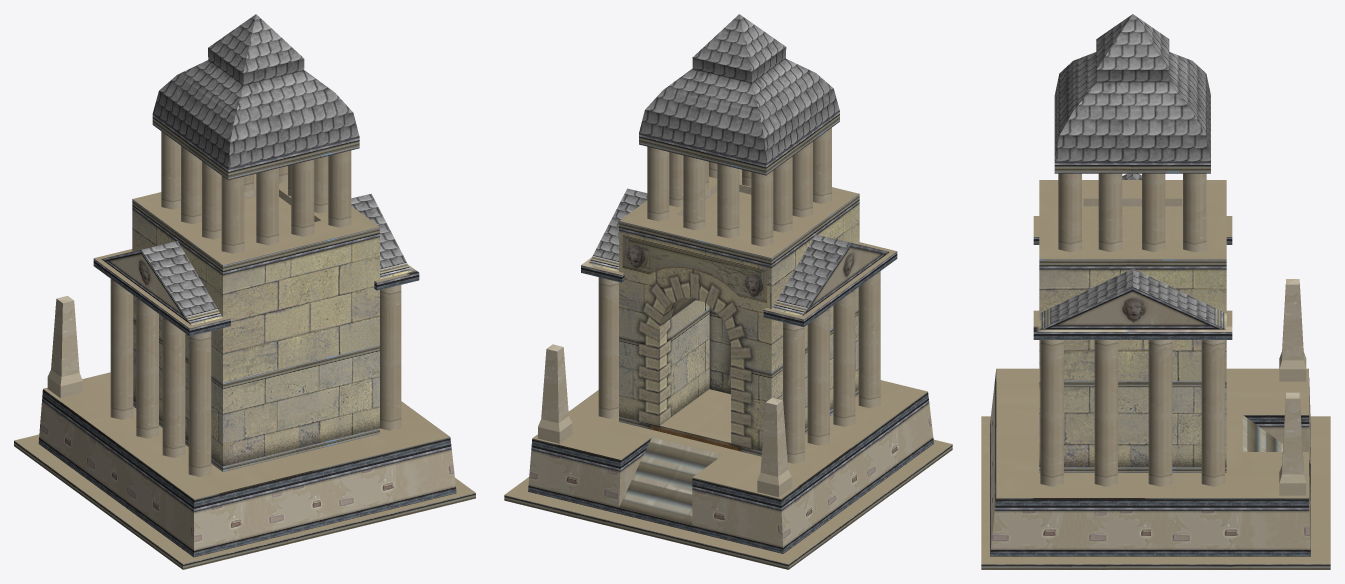
File: h_arcane.FBX
3 views of the same model, side by side, from view 1: azimuth 30°, elevation 25°; view 2: azimuth 150°, elevation 25°; view 3: azimuth 270°, elevation 25° (orthographic). The views are drawn at different scales.
Parts seen in each view (by area): view 1: h_arcane; view 2: h_arcane; view 3: h_arcane.
Boxes of the visible parts, left/top/right/bottom form: h_arcane: left=14, top=14, right=475, bottom=569; h_arcane: left=504, top=14, right=952, bottom=569; h_arcane: left=981, top=14, right=1330, bottom=569.
Size of the model in its own units: 160 by 244 by 160.
